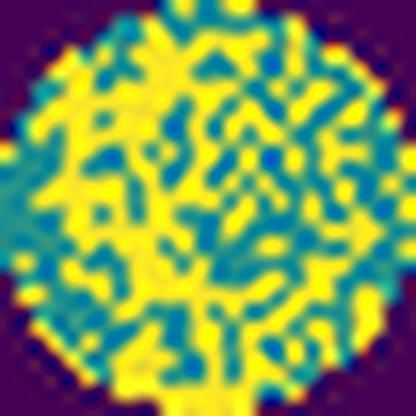Random: (29, 0, 415, 416)
